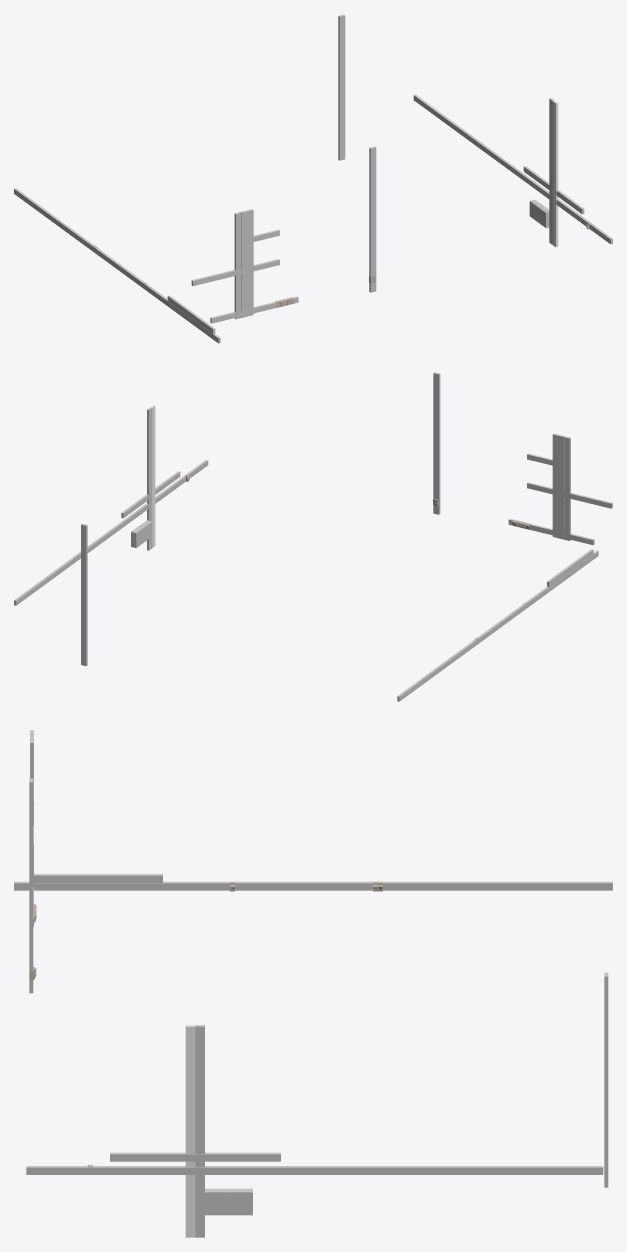
The model's file is Кабель Каналы И Розетки.fbx.
3 views of the same model, one above another, from view 1: azimuth 30°, elevation 25°; view 2: azimuth 150°, elevation 25°; view 3: azimuth 270°, elevation 25° (orthographic). The views are drawn at different scales.
Parts seen in each view (by area): view 1: _920w002, Box301, Box375, Box372, Box299, _920w006, _920w004, _920w005, _920w003, Box298, _920w; view 2: _920w002, Box301, Box372, Box375, Box298, _920w005, _920w004, _920w006, Box299, _920w003; view 3: _920w002, Box301, Box299, Box298, Box305, Box302, _920w001, Box375, Box372.
Part boxes in pixels (bbox=[...]): _920w002: bbox=[14, 188, 220, 343]; Box301: bbox=[413, 94, 612, 244]; Box375: bbox=[338, 14, 345, 160]; Box372: bbox=[369, 146, 376, 292]; Box299: bbox=[552, 100, 558, 247]; _920w006: bbox=[234, 212, 241, 319]; _920w004: bbox=[246, 209, 253, 316]; _920w005: bbox=[241, 210, 247, 317]; _920w003: bbox=[191, 259, 279, 286]; Box298: bbox=[549, 98, 554, 244]; _920w: bbox=[210, 296, 298, 323]; _920w002: bbox=[397, 550, 598, 701]; Box301: bbox=[14, 460, 208, 605]; Box372: bbox=[433, 372, 440, 514]; Box375: bbox=[81, 523, 87, 666]; Box298: bbox=[147, 407, 152, 550]; _920w005: bbox=[558, 435, 564, 539]; _920w004: bbox=[552, 433, 558, 537]; _920w006: bbox=[564, 436, 570, 540]; Box299: bbox=[150, 405, 155, 547]; _920w003: bbox=[527, 482, 612, 508]; _920w002: bbox=[14, 881, 612, 890]; Box301: bbox=[26, 1166, 603, 1174]; Box299: bbox=[185, 1025, 195, 1237]; Box298: bbox=[195, 1025, 204, 1237]; Box305: bbox=[110, 1152, 280, 1161]; Box302: bbox=[205, 1188, 252, 1215]; _920w001: bbox=[34, 874, 162, 882]; Box375: bbox=[604, 972, 608, 1187]; Box372: bbox=[29, 778, 33, 993].
Bounding box in the file's own units: 859 × 385 × 727.
3 materials, 1 textured.
